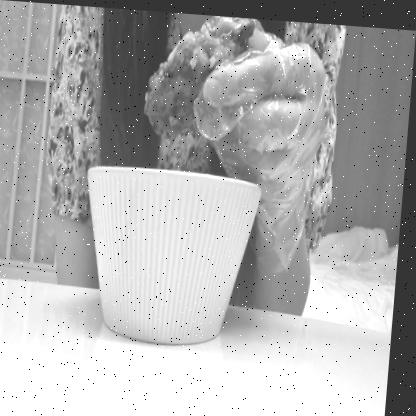streamer: (41, 3, 347, 313)
